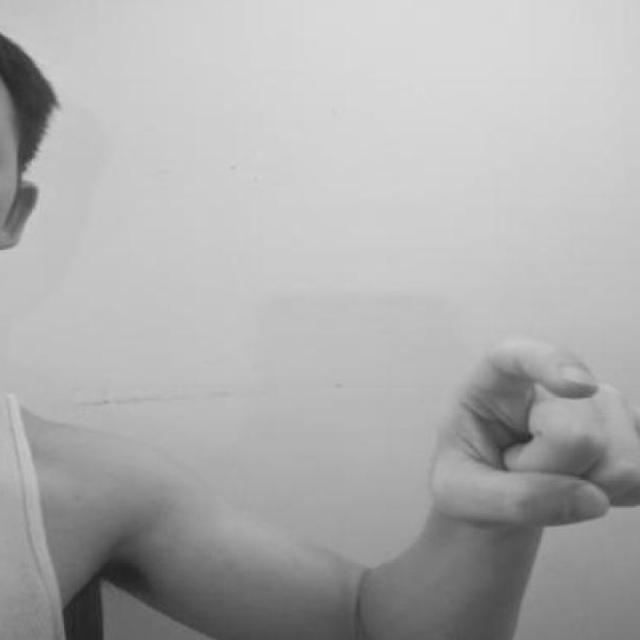Z: (418, 328, 640, 572)
